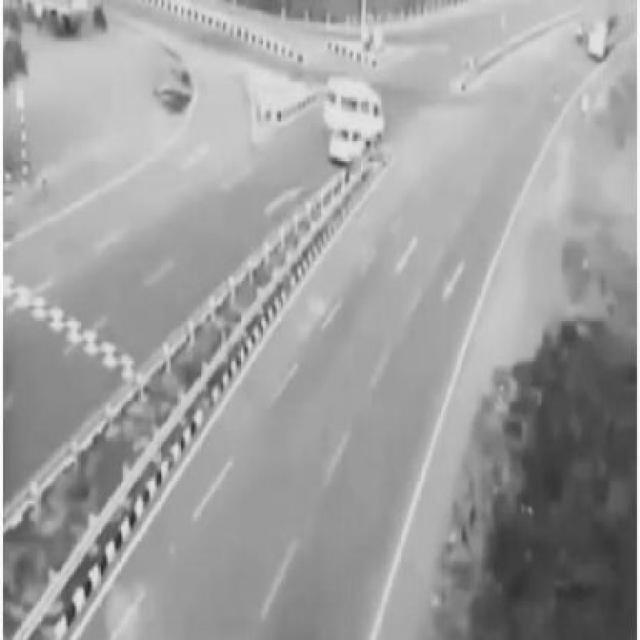accident: (312, 69, 388, 176)
